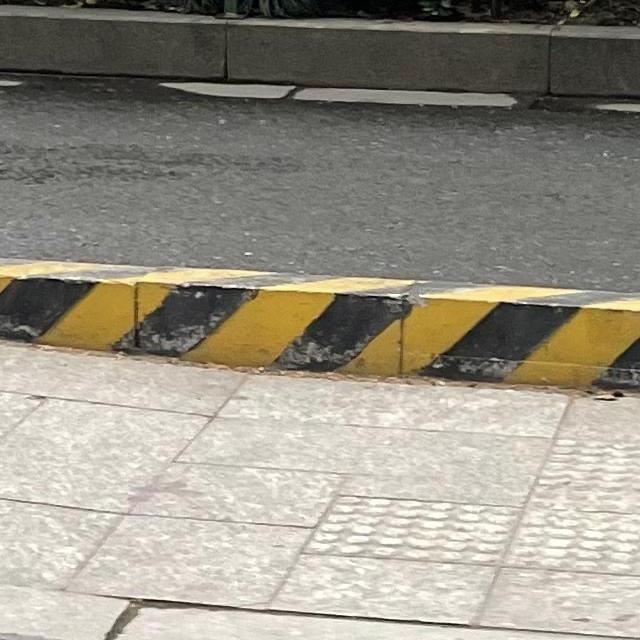curb: (0, 258, 639, 389), (0, 6, 639, 96)
